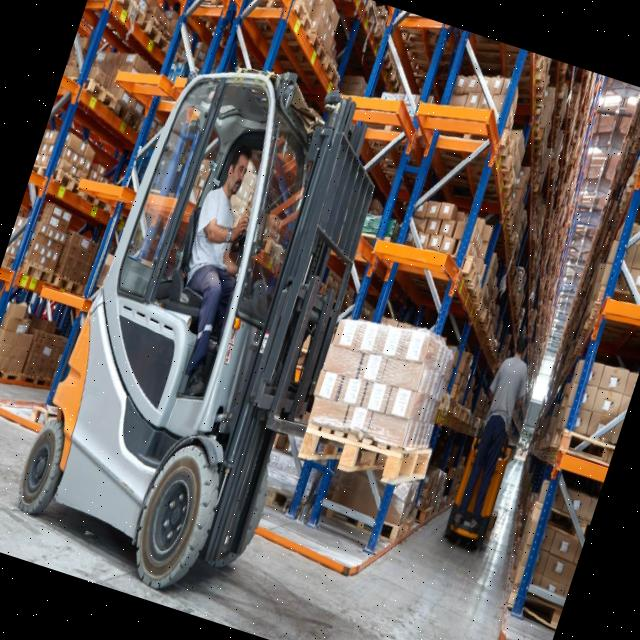Person: (144, 142, 278, 400), (444, 325, 544, 538)
